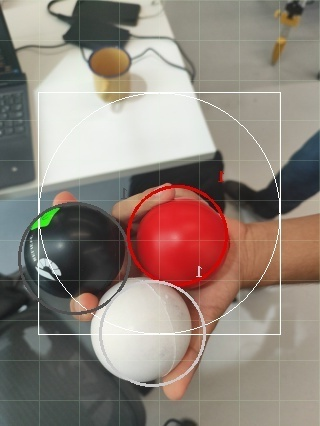Pelota blanca: (90, 278, 209, 392), (127, 36, 196, 94), (87, 44, 132, 78), (45, 0, 81, 19)
Pelota negra: (18, 201, 132, 318), (279, 129, 320, 208), (162, 417, 201, 425)
Pelota roja: (125, 182, 230, 288)
